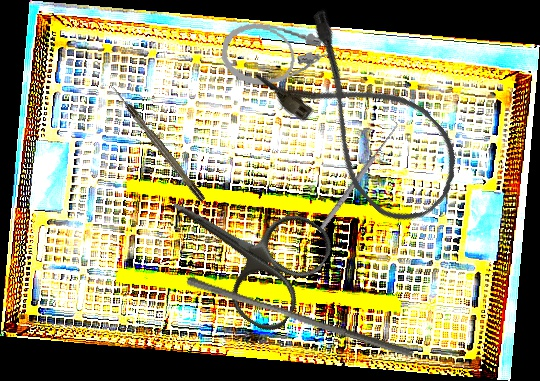Cannula: (250, 3, 479, 239), (218, 18, 340, 96)
Hook Surgical: (110, 83, 206, 204), (312, 118, 402, 235)
Iris Scissors: (142, 153, 340, 339)
Pusher: (183, 275, 417, 359)
